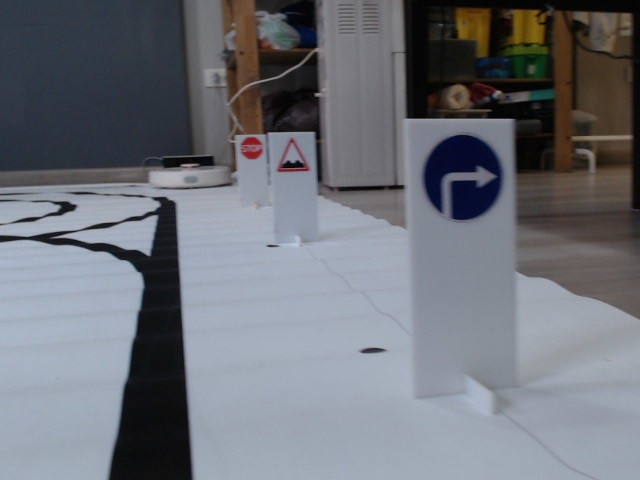Nerov: (278, 137, 310, 173)
Right: (423, 132, 504, 223)
Stop: (241, 137, 264, 159)
